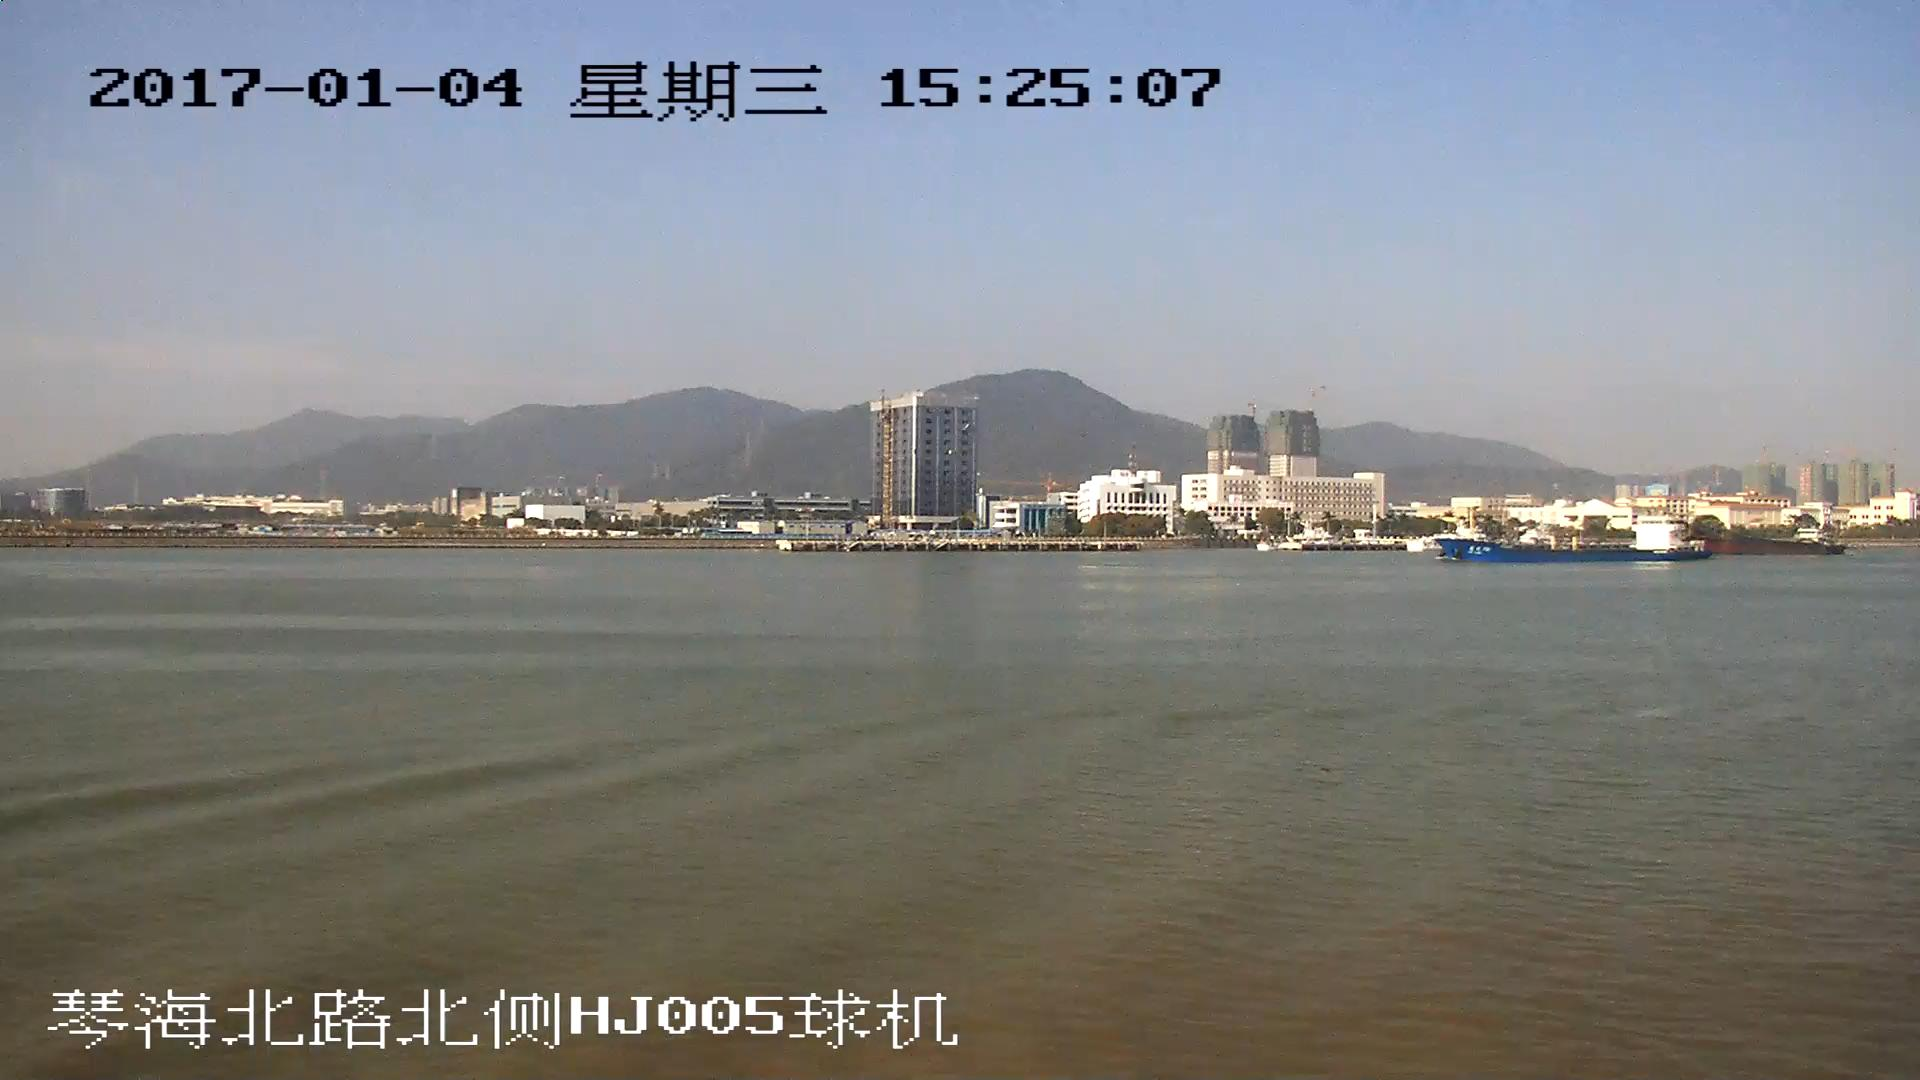general cargo ship: (1440, 513, 1704, 562)
